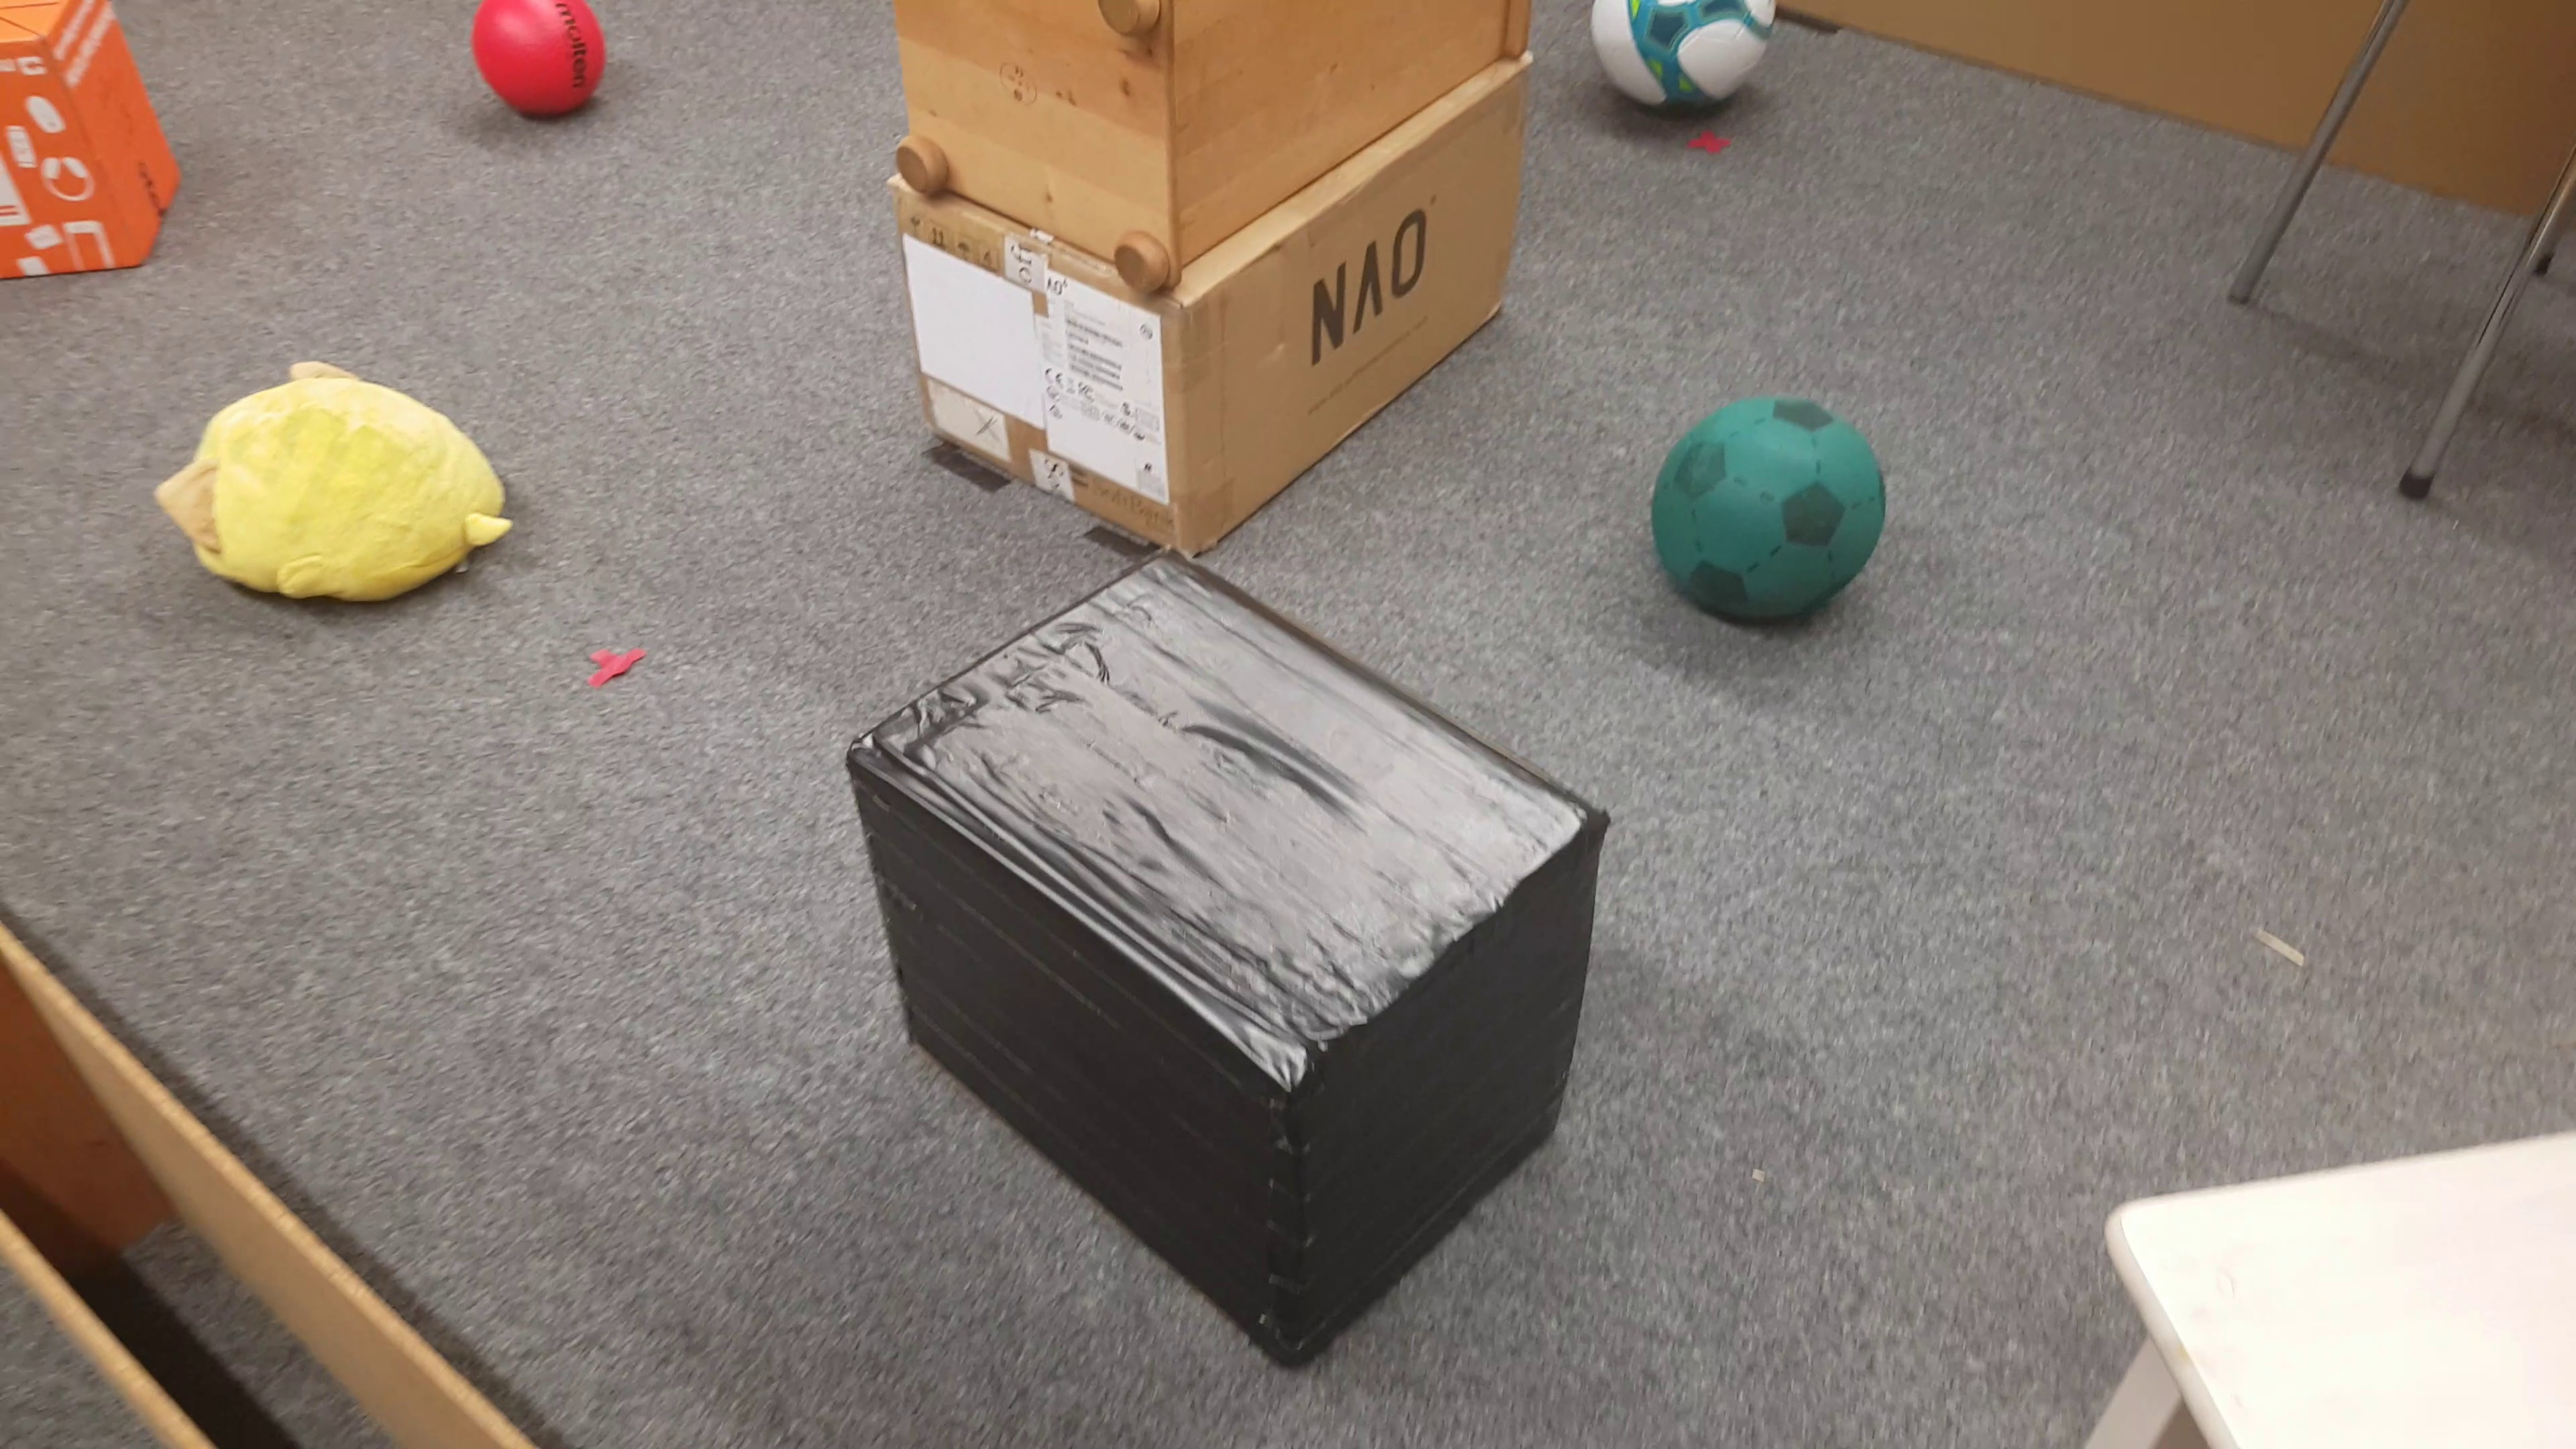grasp: (161, 359, 517, 600)
kick: (1654, 395, 1888, 640), (1594, 4, 1771, 133), (472, 0, 609, 126)
push: (847, 547, 1603, 1371), (0, 9, 184, 285)
